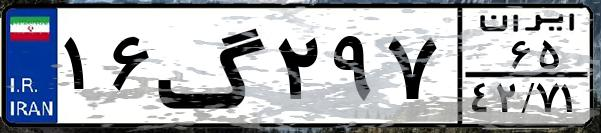1: (57, 26, 110, 100), (560, 70, 590, 125)
2: (270, 28, 330, 110), (495, 70, 520, 125)
4: (470, 70, 495, 125)
5: (537, 27, 568, 80)
6: (110, 28, 156, 98), (508, 27, 537, 80)
7: (385, 28, 445, 110), (535, 70, 560, 125)
9: (330, 28, 385, 110)
گ: (156, 12, 270, 120)
